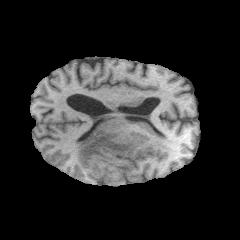glioma: (77, 127, 173, 172)
